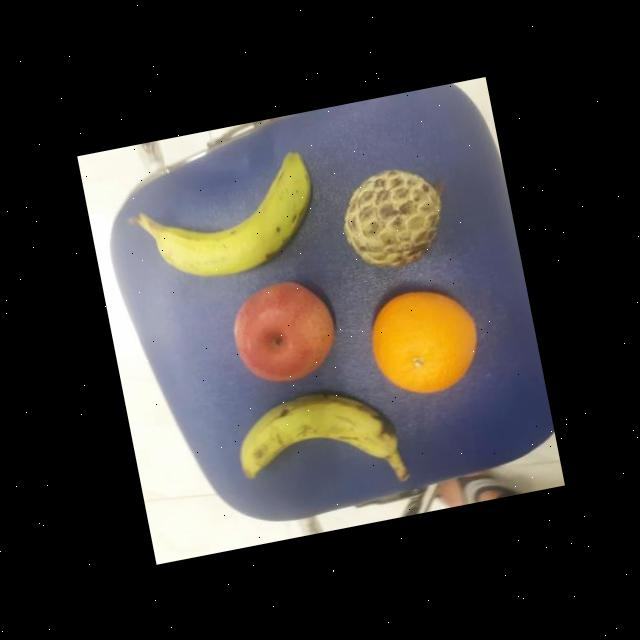Sakya fruit: (330, 157, 460, 277)
apple: (220, 271, 346, 394)
banana: (125, 147, 325, 291), (223, 372, 409, 509)
orange: (358, 278, 488, 404)
